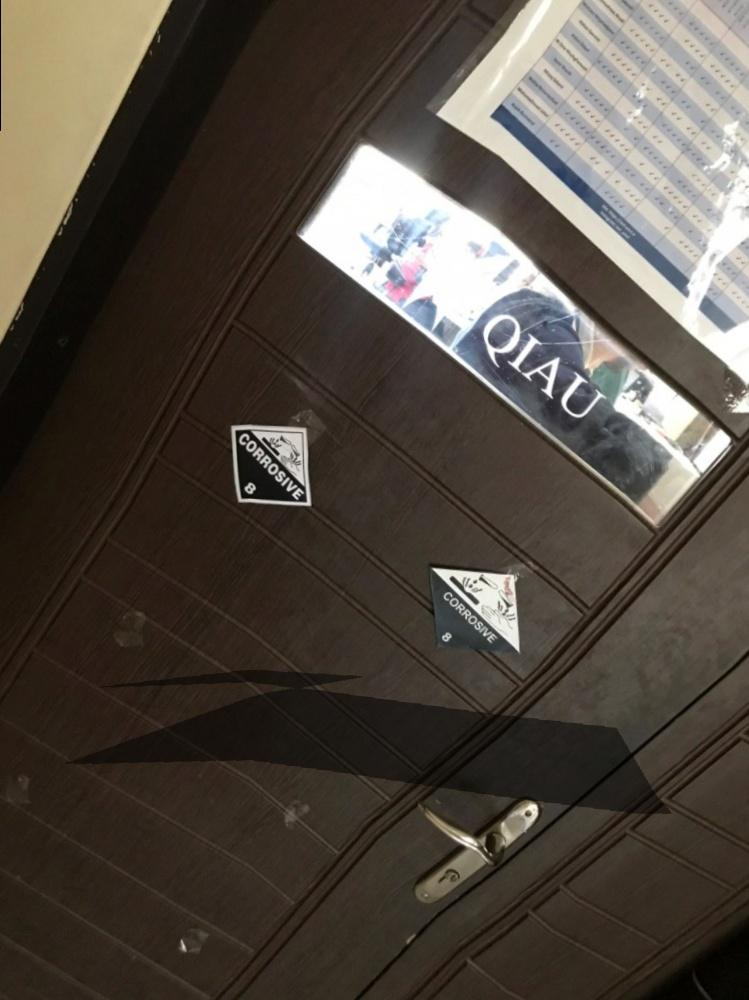corrosive: (428, 563, 525, 661), (230, 423, 315, 509)
